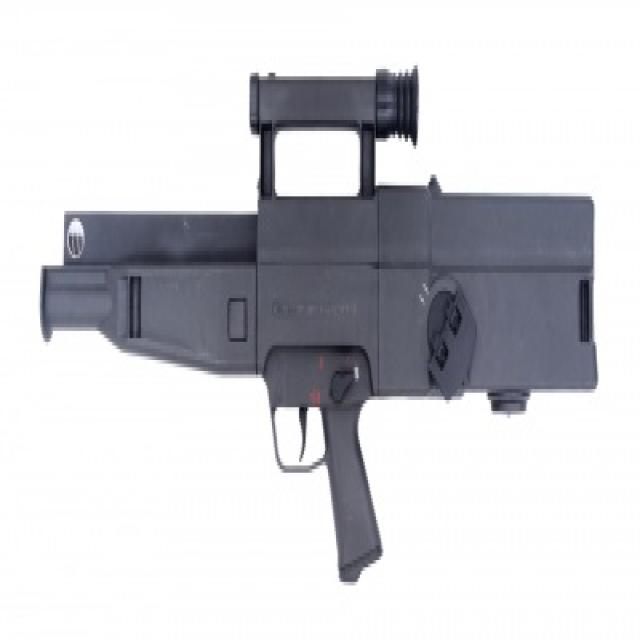rifle: (32, 46, 613, 605)
